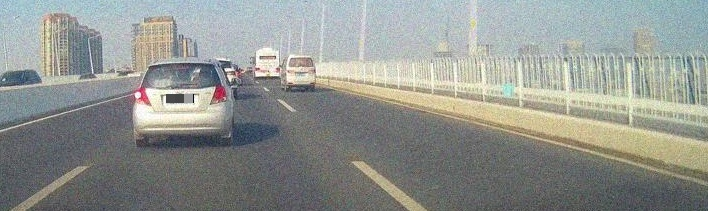L_light: (133, 87, 152, 106), (286, 69, 293, 73), (255, 68, 260, 71)
R_light: (210, 84, 228, 106), (309, 69, 315, 73), (276, 68, 280, 71)
T_light: (175, 63, 189, 67), (298, 57, 303, 60), (265, 50, 271, 51)
day-left: (133, 57, 234, 147)
day-no: (286, 55, 316, 91), (255, 48, 280, 80)
plate_1: (166, 94, 194, 103)
